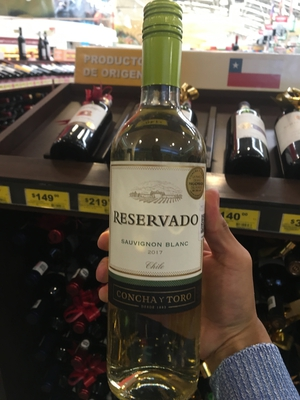reservado sauvignon blanc: (107, 8, 219, 398)
